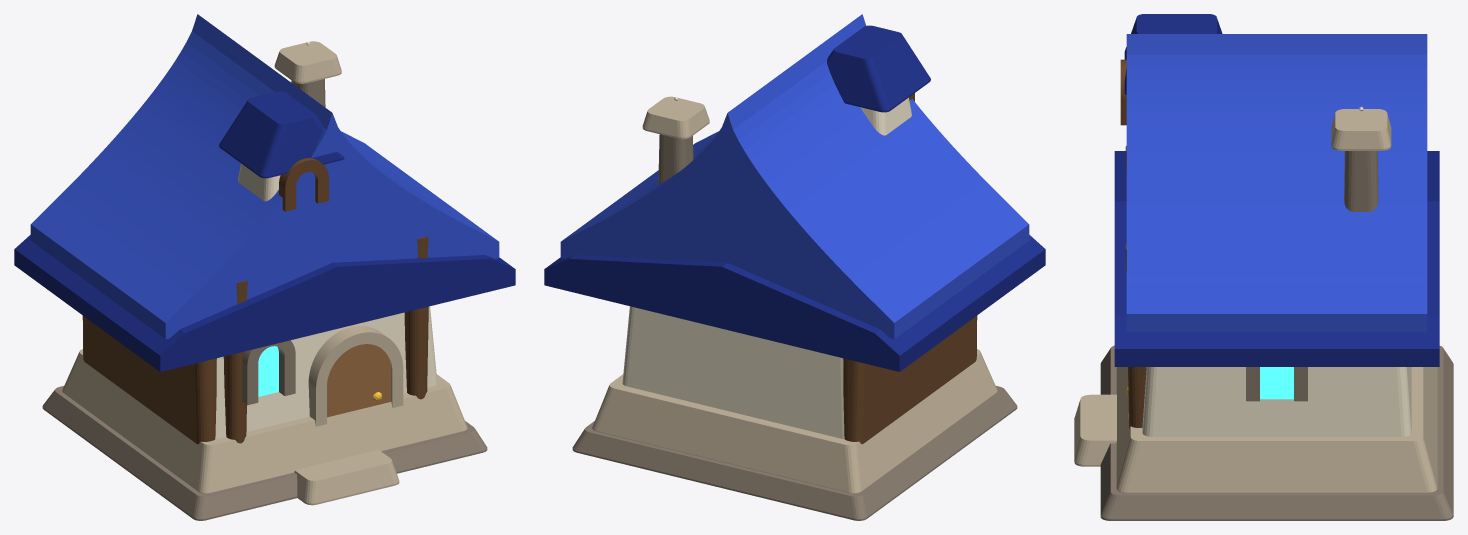
File: maison_habitation.glb
3 renders of one model, left to right at view 1: azimuth 30°, elevation 25°; view 2: azimuth 150°, elevation 25°; view 3: azimuth 270°, elevation 25°, orthographic. The views are drawn at different scales.
Visible parts, largest first — view 1: roof_blue, roof_blue_dk, stone_mid, wood_dark, stone_dark, cream, wood, FenetresMagie; view 2: roof_blue, roof_blue_dk, stone_mid, cream, stone_dark, wood_dark; view 3: roof_blue, stone_mid, roof_blue_dk, stone_dark, cream, wood_dark, FenetresMagie.
Boxes of the visible parts, x1,y1,x2,y2 form: roof_blue: (30, 14, 499, 339); roof_blue_dk: (14, 91, 515, 371); stone_mid: (62, 41, 467, 505); wood_dark: (82, 158, 428, 444); stone_dark: (42, 79, 487, 520); cream: (215, 163, 437, 439); wood: (327, 344, 391, 417); FenetresMagie: (258, 346, 278, 396); roof_blue: (560, 14, 1029, 339); roof_blue_dk: (544, 25, 1045, 371); stone_mid: (592, 96, 997, 493); cream: (622, 97, 911, 439); stone_dark: (572, 134, 1017, 520); wood_dark: (843, 93, 977, 444); roof_blue: (1126, 34, 1427, 331); stone_mid: (1074, 109, 1437, 492); roof_blue_dk: (1114, 14, 1439, 366); stone_dark: (1100, 151, 1453, 520); cream: (1142, 367, 1411, 436); wood_dark: (1120, 59, 1146, 428); FenetresMagie: (1260, 367, 1293, 399).
Bounding box in the file's own units: 2.28 × 2.24 × 1.89.
